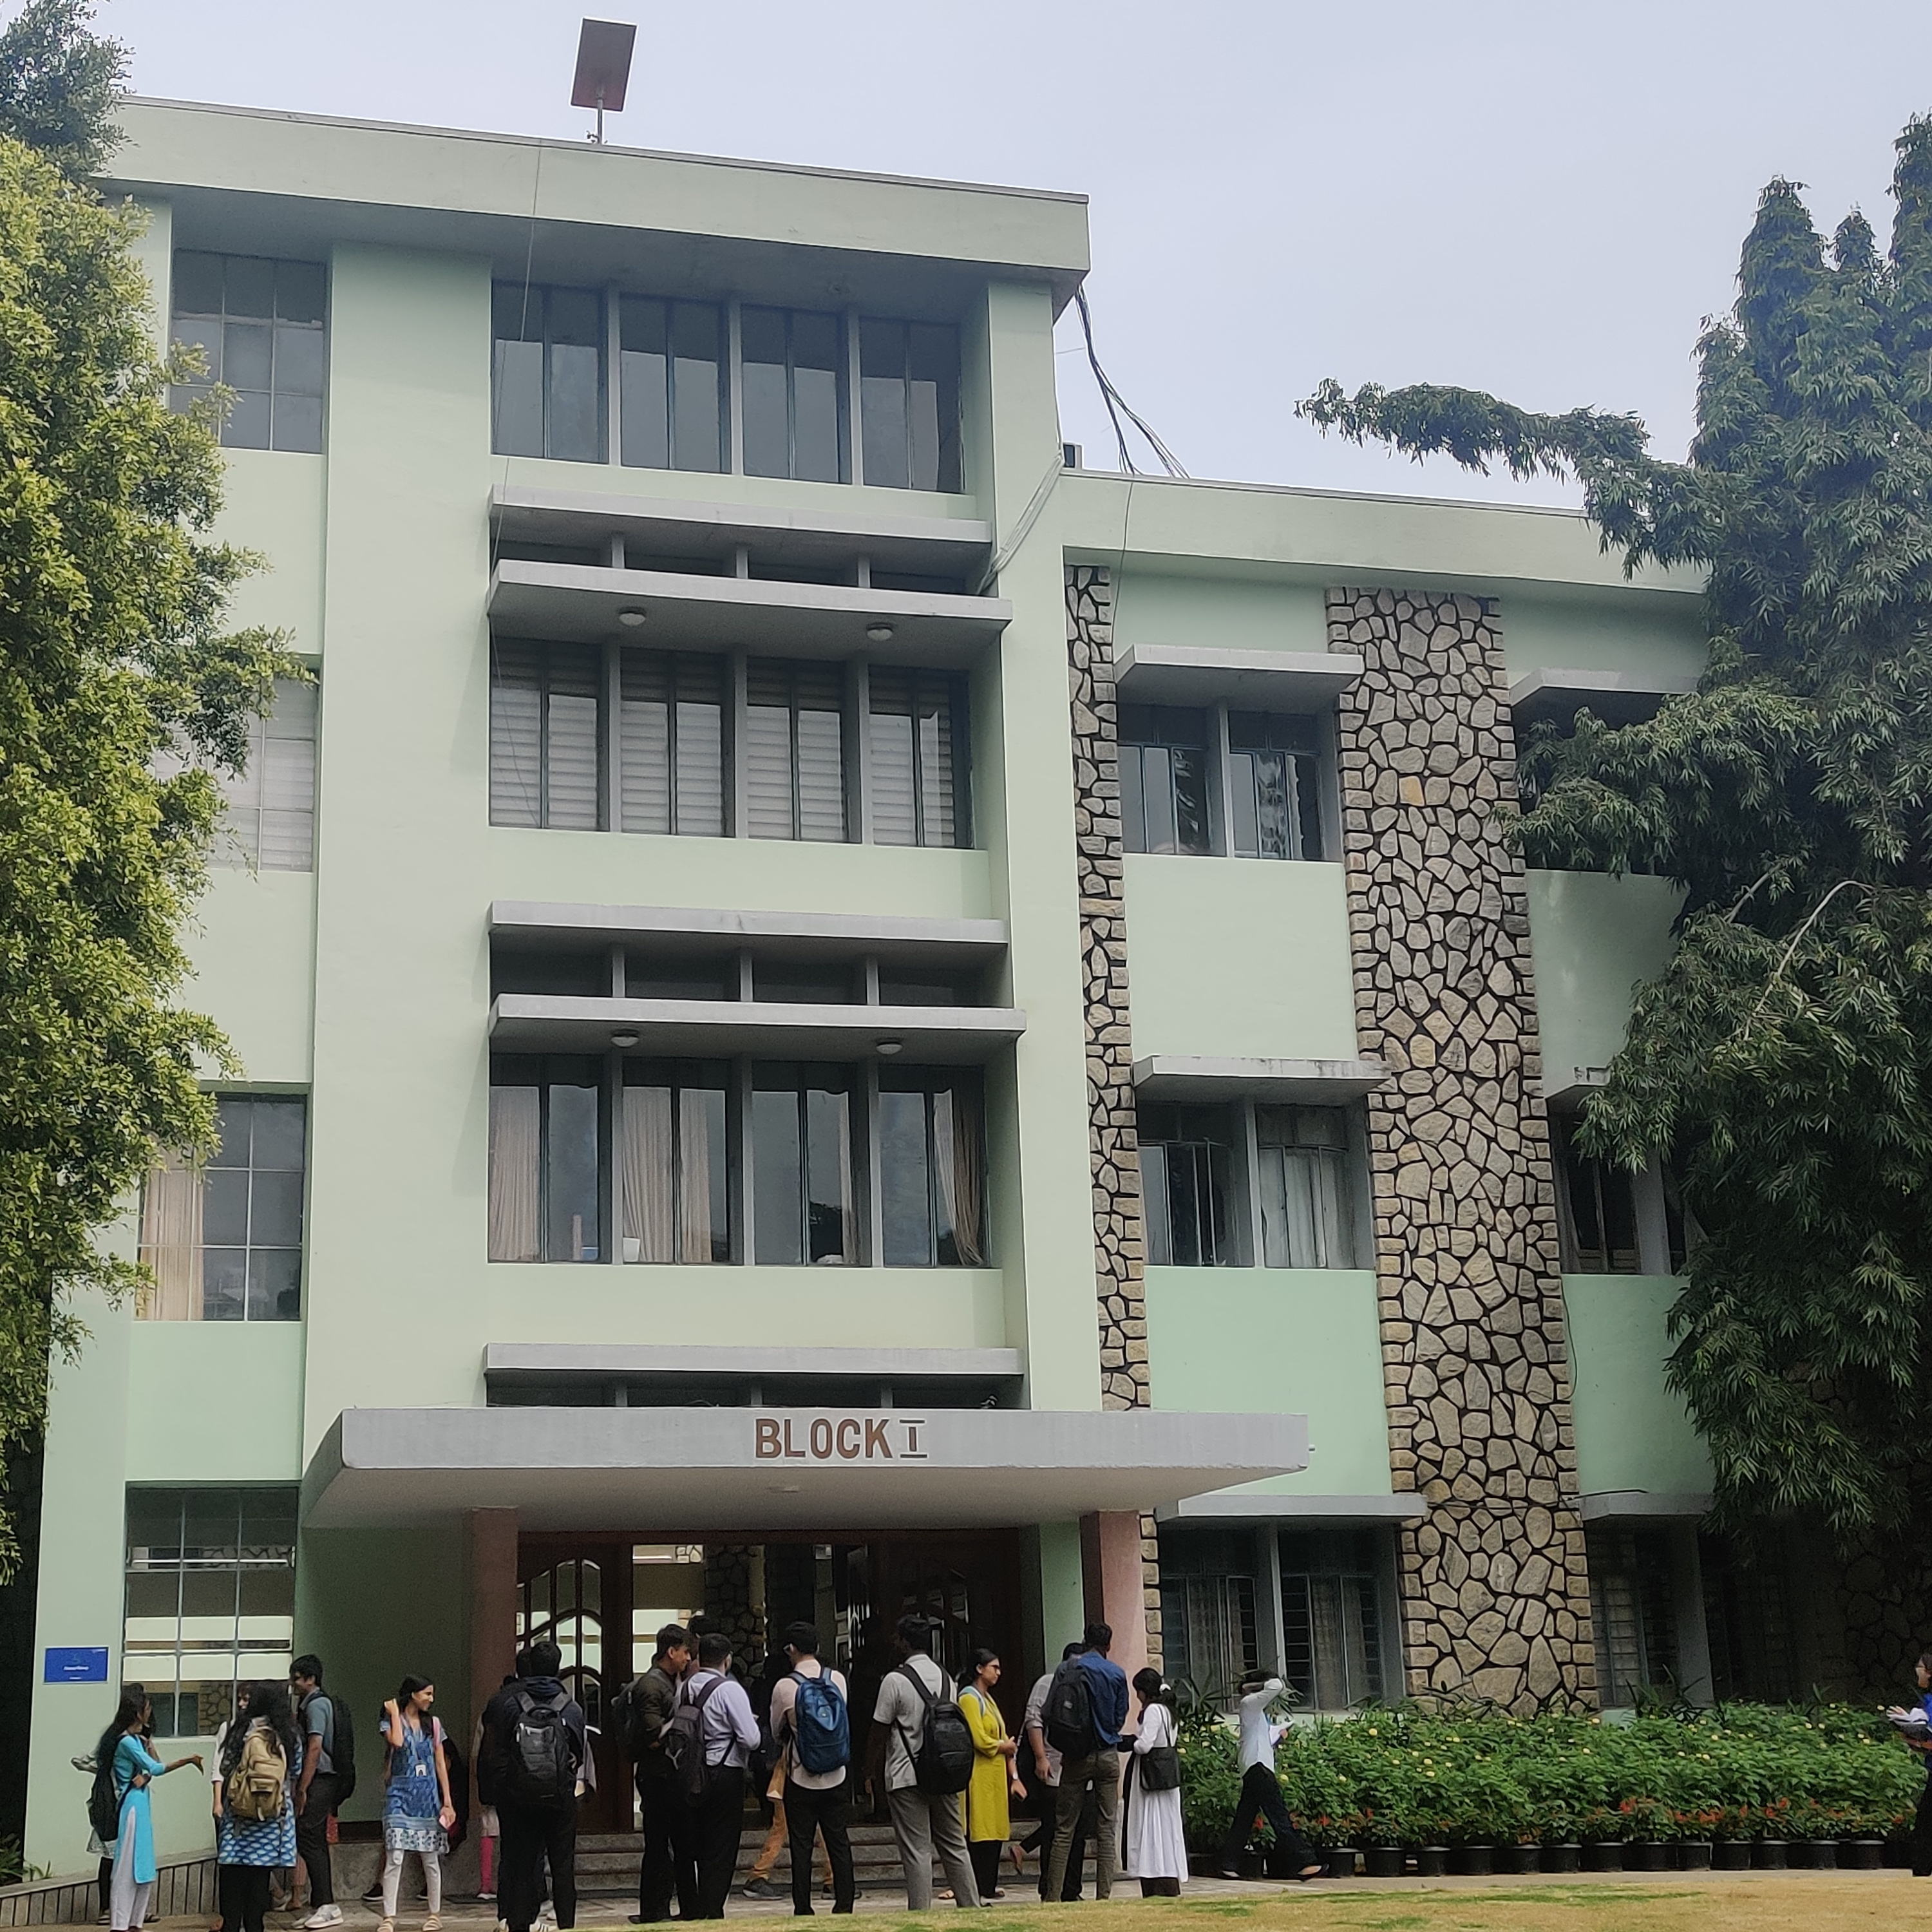Block 1: (138, 81, 1741, 1702)
